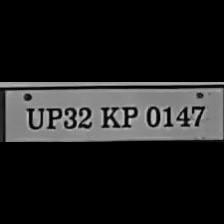0: (142, 102, 162, 128)
1: (162, 102, 174, 130)
2: (74, 104, 94, 130)
3: (63, 104, 79, 130)
4: (173, 102, 191, 128)
7: (189, 102, 205, 128)
K: (98, 103, 120, 130)
P: (116, 104, 136, 128), (43, 104, 61, 130)
U: (23, 104, 43, 130)
